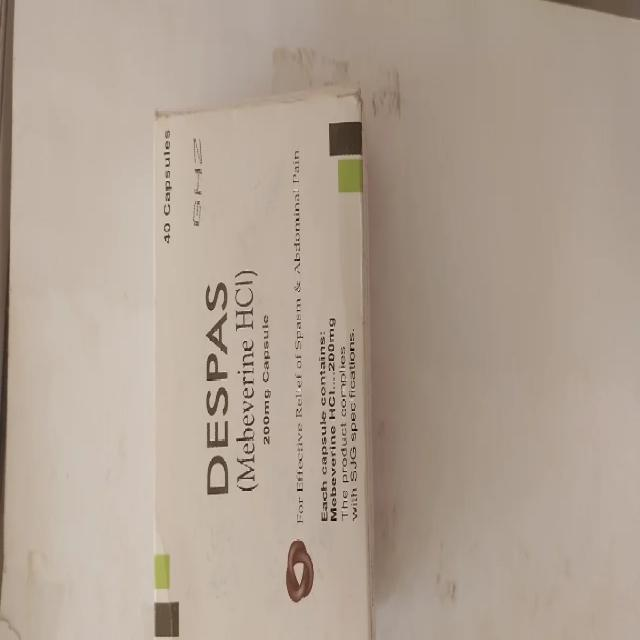drug-name: (199, 276, 232, 497)
